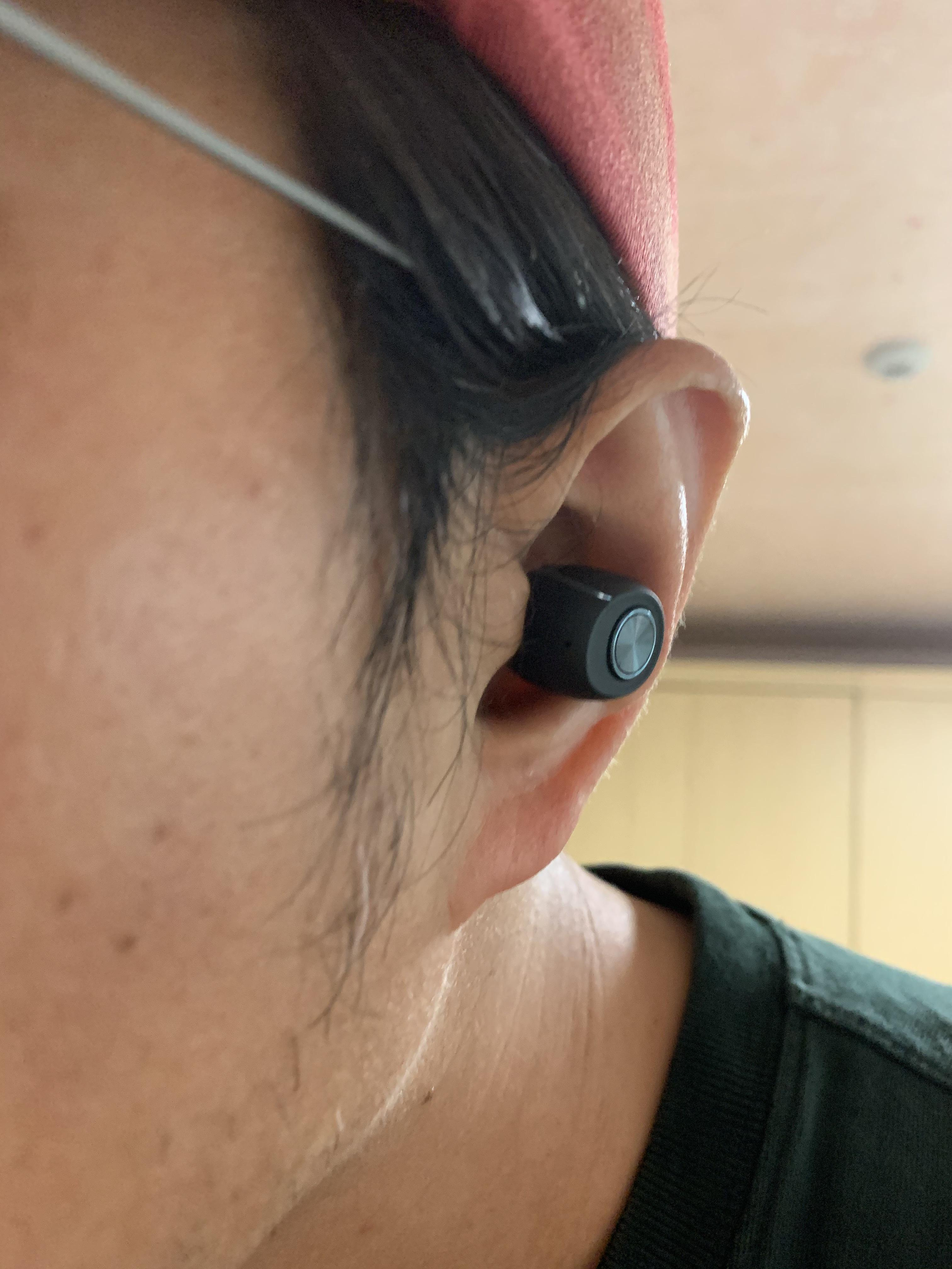earphone: (477, 528, 684, 725)
